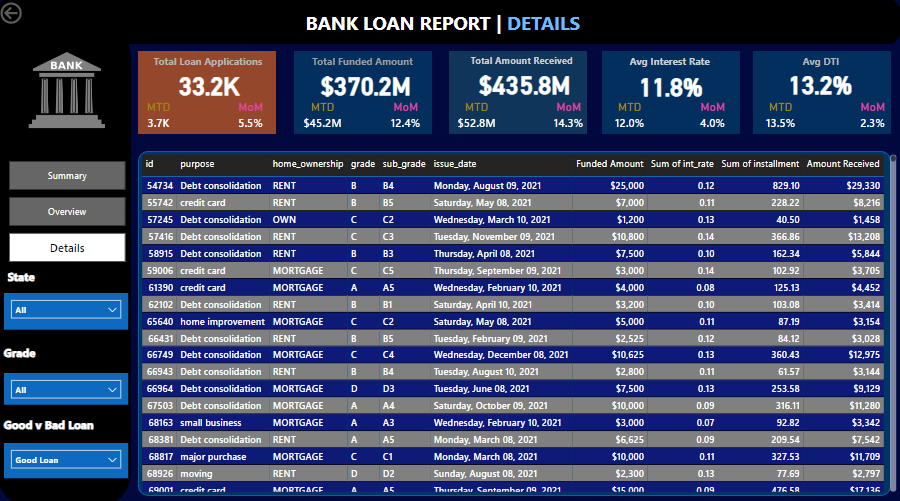

This screenshot's page, from the dashboard's own definition file:
{"tool":"powerbi","page":{"name":"Details","canvas":[1280,720],"ordinal":2},"visuals":[{"type":"shape","box":[0,32.6,189.9,687.4],"z":0},{"type":"shape","box":[199.8,73.7,195.6,117.6],"z":1000},{"type":"shape","box":[640.6,73.7,195.6,117.6],"z":2000},{"type":"shape","box":[0,0,1280,63.8],"z":3000},{"type":"textbox","box":[432.3,9.9,620.8,87.9],"z":4000},{"type":"card","fields":{"Values":["Bank_Loan_Data.Total Loan Applications"]},"box":[199.8,85,201.3,72.3],"z":5000},{"type":"textbox","box":[216.9,73.7,181.4,53.9],"z":6000},{"type":"card","title":"MTD","fields":{"Values":["Bank_Loan_Data.MTD Loan Applications"]},"box":[189.9,143.1,78,48.2],"z":7000},{"type":"card","title":"MoM","fields":{"Values":["Bank_Loan_Data.MoM Loan Applicaions"]},"box":[320.3,143.1,78,48.2],"z":8000},{"type":"shape","box":[420.9,73.7,195.6,117.6],"z":9000},{"type":"card","title":"MTD","fields":{"Values":["Bank_Loan_Data.MTD Funded Amount"]},"box":[422.4,143.1,78,48.2],"z":10000},{"type":"card","title":"MoM","fields":{"Values":["Bank_Loan_Data.MoM Total Funded Amount"]},"box":[540,143.1,78,48.2],"z":11000},{"type":"card","fields":{"Values":["Bank_Loan_Data.Total Funded Amount"]},"box":[378.4,85,287.7,72.3],"z":12000},{"type":"textbox","box":[432.3,73.7,171.5,59.5],"z":13000},{"type":"shape","box":[640.6,73.7,195.6,117.6],"z":14000},{"type":"shape","box":[857.5,73.7,195.6,117.6],"z":15000},{"type":"shape","box":[1071.5,73.7,195.6,117.6],"z":16000},{"type":"card","fields":{"Values":["Bank_Loan_Data.Total Amoutn Recieved"]},"box":[603.8,89.3,287.7,59.5],"z":17000},{"type":"card","fields":{"Values":["Bank_Loan_Data.Avg Interest Rate"]},"box":[810.7,92.1,287.7,59.5],"z":18000},{"type":"card","fields":{"Values":["Bank_Loan_Data.Avg DTI"]},"box":[1053.1,89.3,226.8,59.5],"z":19000},{"type":"card","title":"MTD","fields":{"Values":["Bank_Loan_Data.MTD Avg DTI"]},"box":[1071.5,143.1,78,48.2],"z":20000},{"type":"card","title":"MTD","fields":{"Values":["Bank_Loan_Data.MTD Avg Interest Rate"]},"box":[857.5,143.1,78,48.2],"z":21000},{"type":"card","title":"MTD","fields":{"Values":["Bank_Loan_Data.MTD Total Amount Recieved"]},"box":[640.6,143.1,78,48.2],"z":22000},{"type":"card","title":"MoM","fields":{"Values":["Bank_Loan_Data.MoM Total Amount Recieved"]},"box":[771,143.1,78,48.2],"z":23000},{"type":"card","title":"MoM","fields":{"Values":["Bank_Loan_Data.MoM Avg Interest Rate"]},"box":[975.1,143.1,78,48.2],"z":24000},{"type":"card","title":"MoM","fields":{"Values":["Bank_Loan_Data.MoM Avg DTI"]},"box":[1201.9,143.1,78,48.2],"z":25000},{"type":"textbox","box":[666.1,73.7,175.7,59.5],"z":26000},{"type":"textbox","box":[891.5,73.7,180,29.8],"z":27000},{"type":"textbox","box":[1136.7,73.7,130.4,228.2],"z":28000},{"type":"shape","box":[199.8,215.4,1067.2,489],"z":29000},{"type":"textbox","box":[229.6,226.8,250.9,36.9],"z":30000},{"type":"textbox","box":[771,226.8,266.5,36.9],"z":31000},{"type":"textbox","box":[199.8,497.5,1067.2,32.6],"z":32000},{"type":"slicer","fields":{"Values":["Bank_Loan_Data.address_state"]},"box":[9.9,416.7,175.7,52.4],"z":33000},{"type":"slicer","fields":{"Values":["Bank_Loan_Data.grade"]},"box":[9.9,530.1,175.7,45.4],"z":34000},{"type":"slicer","fields":{"Values":["Bank_Loan_Data.Good vs Bad Loan"]},"box":[9.9,629.3,175.7,49.6],"z":35000},{"type":"textbox","box":[9.9,377,56.7,39.7],"z":36000},{"type":"textbox","box":[0,586.8,175.7,32.6],"z":37000},{"type":"textbox","box":[0,484.7,185.7,45.4],"z":38000},{"type":"textbox","box":[9.9,263.6,165.8,38.3],"z":39000},{"type":"tableEx","fields":{"Values":["Bank_Loan_Data.id","Bank_Loan_Data.purpose","Bank_Loan_Data.home_ownership","Bank_Loan_Data.grade","Bank_Loan_Data.sub_grade","Bank_Loan_Data.issue_date","Bank_Loan_Data.Total Funded Amount","Sum(Bank_Loan_Data.int_rate)","Sum(Bank_Loan_Data.installment)","Bank_Loan_Data.Total Amoutn Recieved"]},"box":[199.8,215.4,1080,487.6],"z":40000},{"type":"actionButton","box":[0,0,100,40],"z":41000},{"type":"pageNavigator","box":[17,229.6,165.8,144.6],"z":42000},{"type":"image","box":[0,69.4,197,119.1],"z":43000}]}

Visuals, with their boxes in screenshot pixels (x1, y1, x2, y2), scaled from the page's 1280x720 canvas onto the 900x501 screenshot:
shape: (0, 23, 134, 500)
shape: (140, 51, 278, 133)
shape: (450, 51, 588, 133)
shape: (0, 0, 899, 44)
textbox: (304, 7, 740, 68)
card - Bank_Loan_Data.Total Loan Applications: (140, 59, 282, 109)
textbox: (153, 51, 280, 89)
"MTD" card: (134, 100, 188, 133)
"MoM" card: (225, 100, 280, 133)
shape: (296, 51, 433, 133)
"MTD" card: (297, 100, 352, 133)
"MoM" card: (380, 100, 435, 133)
card - Bank_Loan_Data.Total Funded Amount: (266, 59, 468, 109)
textbox: (304, 51, 425, 93)
shape: (450, 51, 588, 133)
shape: (603, 51, 740, 133)
shape: (753, 51, 891, 133)
card - Bank_Loan_Data.Total Amoutn Recieved: (425, 62, 627, 104)
card - Bank_Loan_Data.Avg Interest Rate: (570, 64, 772, 105)
card - Bank_Loan_Data.Avg DTI: (740, 62, 899, 104)
"MTD" card: (753, 100, 808, 133)
"MTD" card: (603, 100, 658, 133)
"MTD" card: (450, 100, 505, 133)
"MoM" card: (542, 100, 597, 133)
"MoM" card: (686, 100, 740, 133)
"MoM" card: (845, 100, 899, 133)
textbox: (468, 51, 592, 93)
textbox: (627, 51, 753, 72)
textbox: (799, 51, 891, 210)
shape: (140, 150, 891, 490)
textbox: (161, 158, 338, 183)
textbox: (542, 158, 729, 183)
textbox: (140, 346, 891, 369)
slicer - Bank_Loan_Data.address_state: (7, 290, 130, 326)
slicer - Bank_Loan_Data.grade: (7, 369, 130, 400)
slicer - Bank_Loan_Data.Good vs Bad Loan: (7, 438, 130, 472)
textbox: (7, 262, 47, 290)
textbox: (0, 408, 124, 431)
textbox: (0, 337, 131, 369)
textbox: (7, 183, 124, 210)
tableEx - Bank_Loan_Data.id x Bank_Loan_Data.purpose: (140, 150, 899, 489)
actionButton: (0, 0, 70, 28)
pageNavigator: (12, 160, 129, 260)
image: (0, 48, 139, 131)
